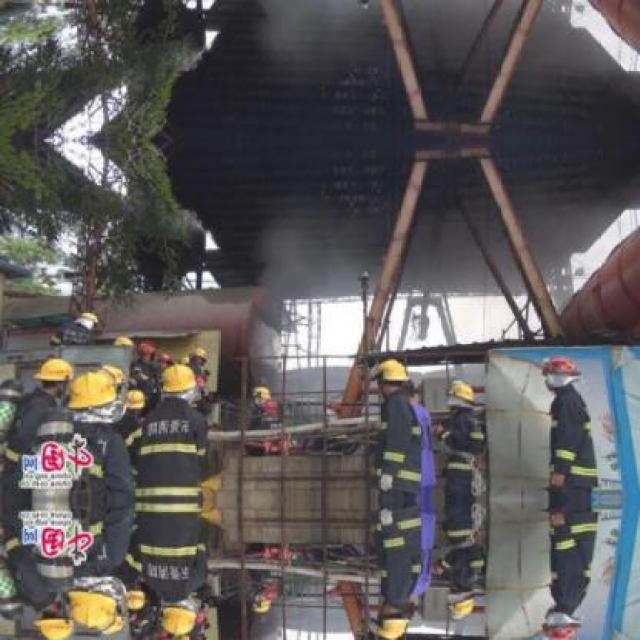Reflective-Jacket: (121, 407, 222, 529), (366, 395, 436, 501), (537, 390, 605, 495), (438, 408, 494, 482)
Safety-Helmet: (62, 364, 125, 419), (152, 361, 208, 405), (534, 352, 588, 392), (29, 352, 80, 393), (369, 353, 418, 392), (442, 376, 482, 411), (188, 342, 214, 367), (134, 338, 160, 362)
